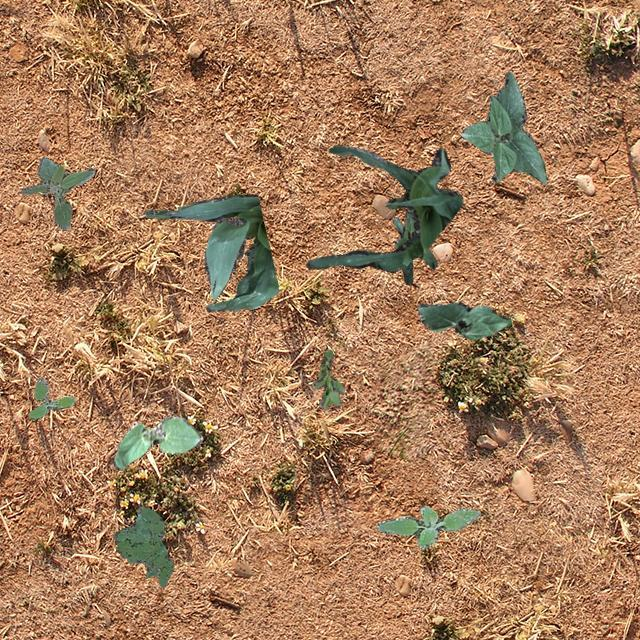crop: (306, 144, 462, 272), (144, 194, 278, 310), (459, 70, 546, 184), (112, 414, 202, 468), (416, 302, 511, 338)
weed: (21, 156, 94, 228), (111, 506, 172, 586), (376, 504, 478, 548), (392, 206, 436, 284), (311, 348, 344, 409), (27, 376, 74, 418)
